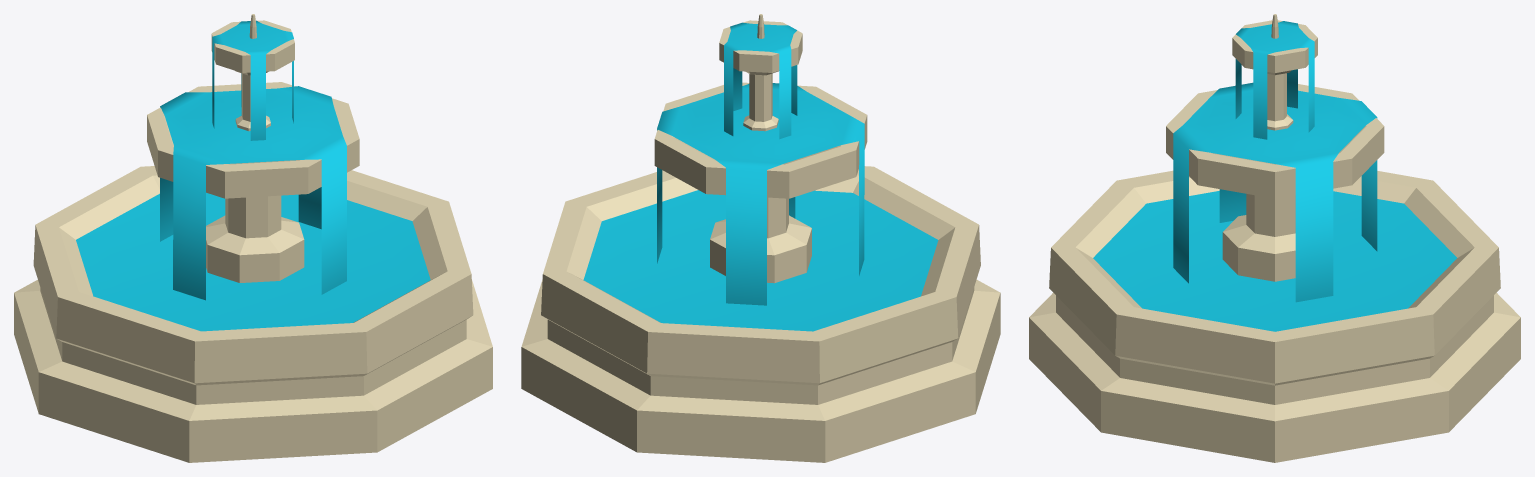
The model's file is Fountain .fbx.
The picture shows the model from 3 angles, left to right: view 1: azimuth 30°, elevation 25°; view 2: azimuth 150°, elevation 25°; view 3: azimuth 270°, elevation 25°; orthographic projection.
Parts seen in each view (by area): view 1: Cube, Plane; view 2: Cube, Plane; view 3: Cube, Plane.
Boxes of the visible parts, <box> form: Cube: <box>14,14,492,462</box>; Plane: <box>76,20,430,331</box>; Cube: <box>521,14,1000,462</box>; Plane: <box>583,22,938,331</box>; Cube: <box>1029,14,1520,462</box>; Plane: <box>1093,21,1456,331</box>.
Size of the model in its own units: 187 by 145 by 187.
